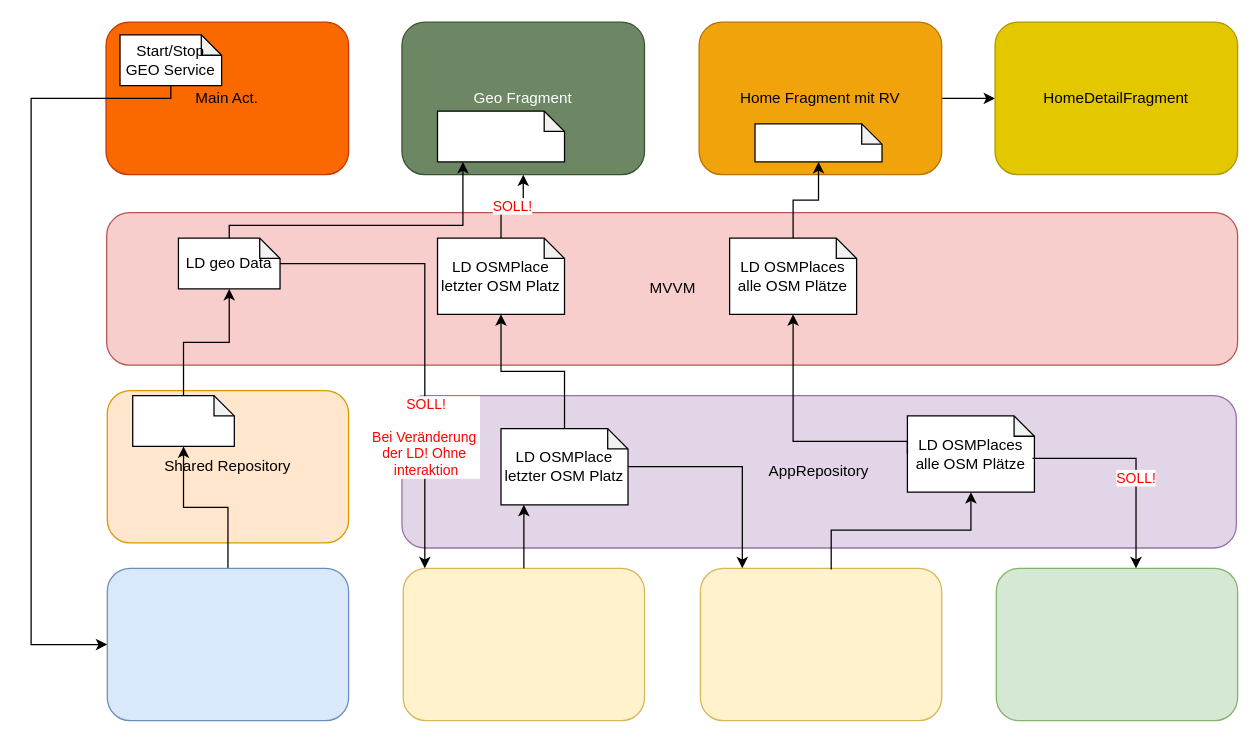
Image size: 1260x743. Some labels were removed from this diagram. Here are the shapes that lost their labels. From the top down, the centre of each, then its label:
point 500,136: Observe
point 818,142: Adapter
point 182,420: LD Location
point 227,644: GEO Daten (Mit foreground service)
point 523,644: GSON/JSON
point 820,644: ROOM
point 1116,644: Firebase
